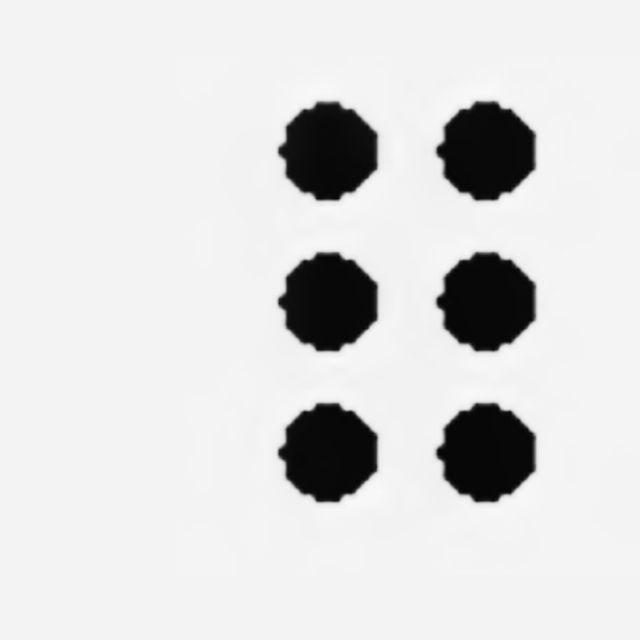mahal: (278, 102, 536, 505)
